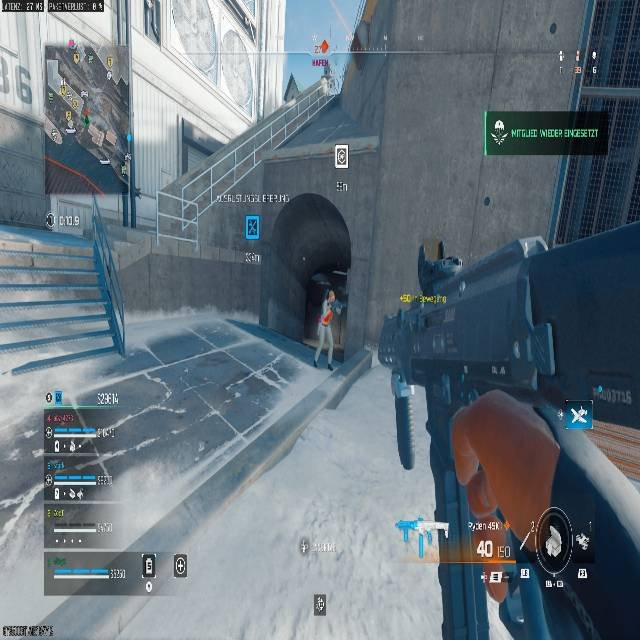head: (271, 193, 351, 372)
player: (311, 38, 334, 92)
